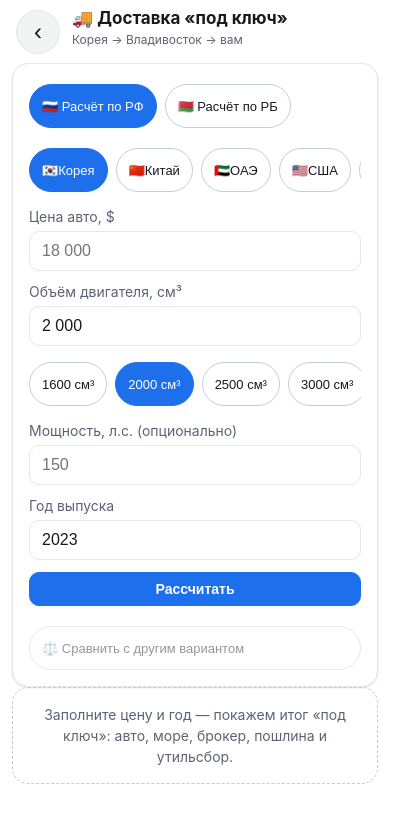
Test: Calc: страна отправки (GEO-V1 §2–§3) › дефолт KR уходит в POST /calc/delivery без касания сегмента
This screenshot has width=402, height=838.
Type "18000" into the field with placeholder "18 000". click: (195, 251)
box: [29,231,361,271]
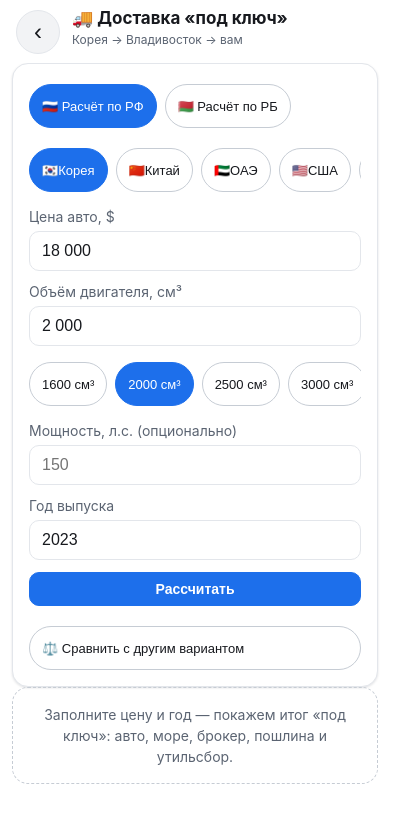
Click the button "Рассчитать". click: (195, 589)
box: [29,572,361,606]
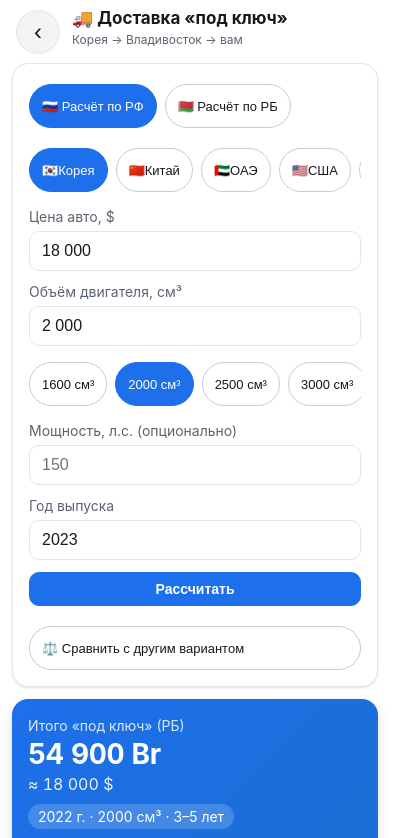
Expected: the text "Итого «под ключ» (РБ)" is shown, [28,717,185,734]
